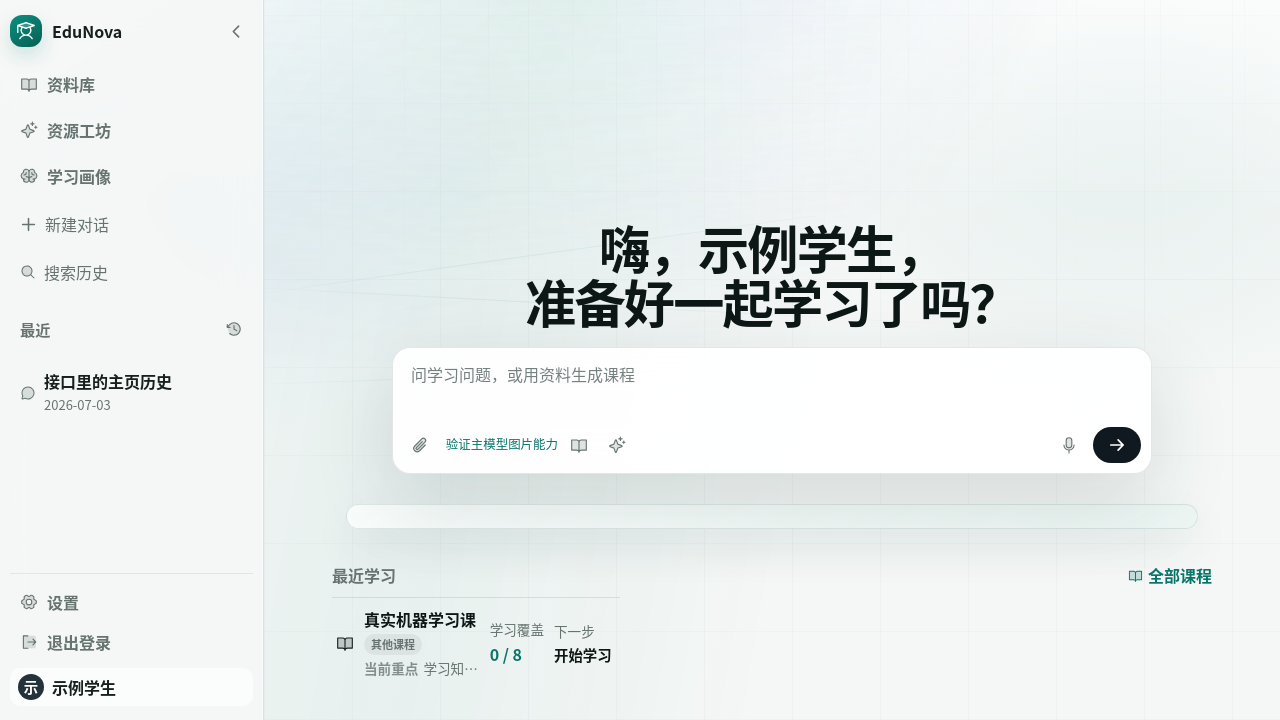
LearningSpacePage › filters materials inside the home library drawer
Expected: the link "真实机器学习课" is shown, [364, 607, 480, 631]
Click the button named "打开资料库".
click(579, 444)  # box [562, 430, 596, 460]
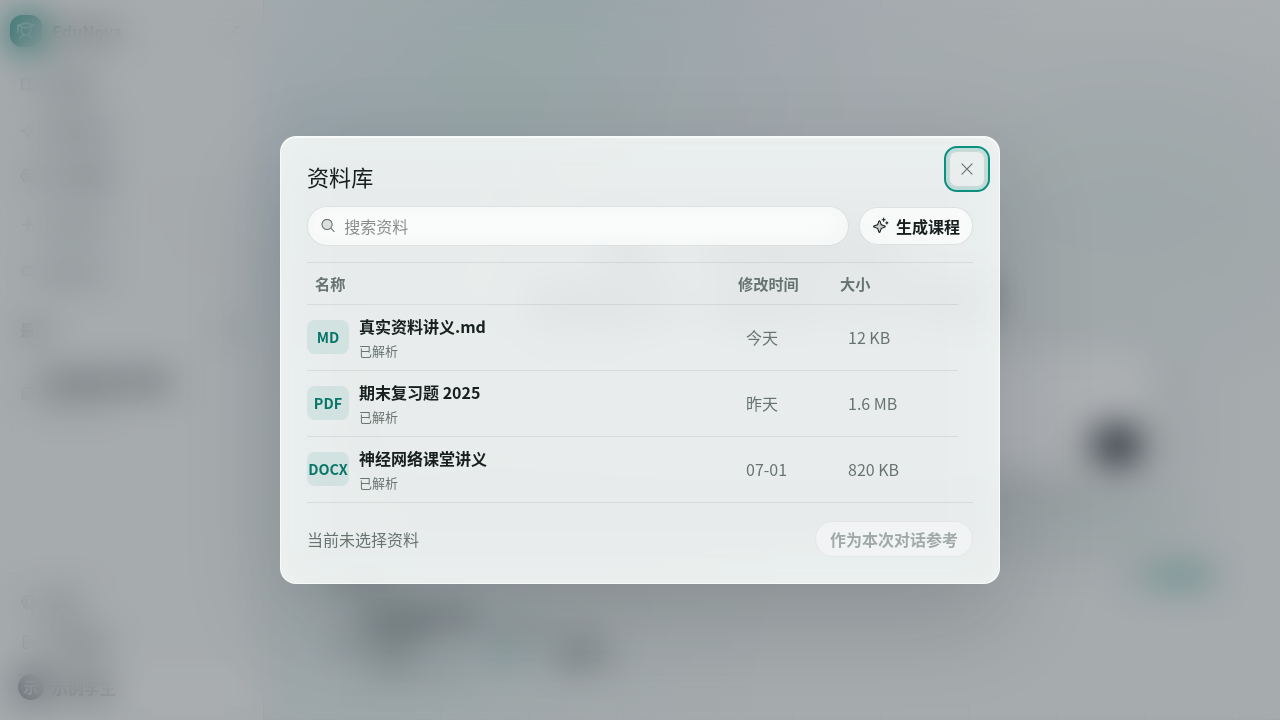
Type "期末" into the field labelled "搜索资料".
click(590, 226); type("期末")  # box [344, 214, 836, 238]
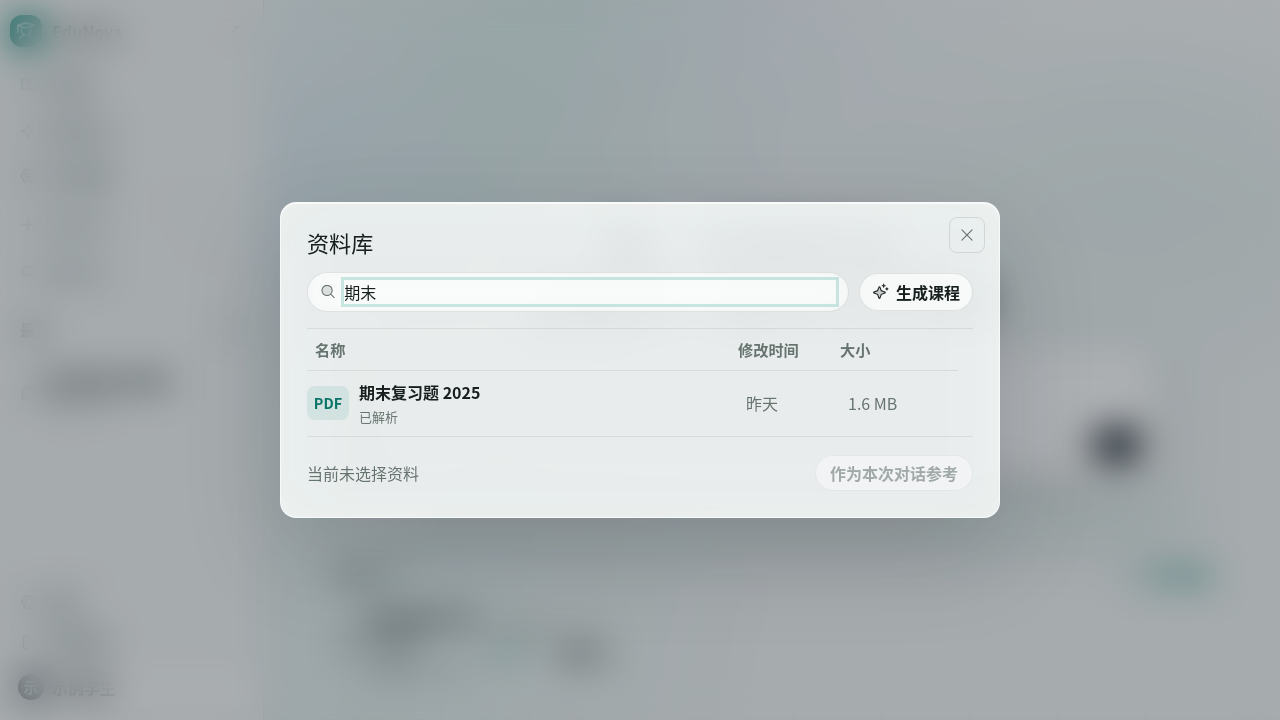
Expected: the button "PDF 期末复习题 2025 已解析 昨天 1.6 MB" is shown, [307, 370, 958, 436]
Expected: the button "神经网络课堂讲义" is gone
